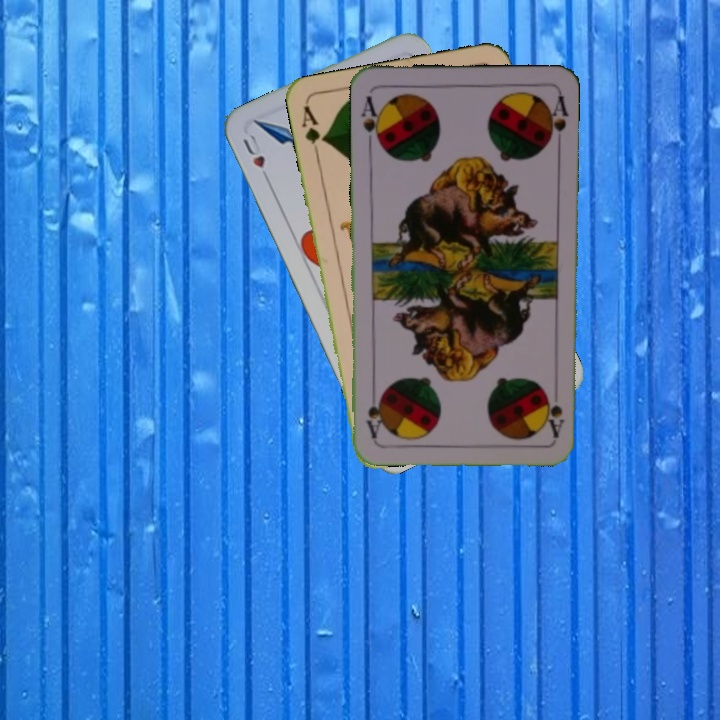GA: (297, 101, 328, 160)
HU: (239, 130, 273, 185)
SA: (357, 91, 384, 149), (543, 388, 567, 440)
